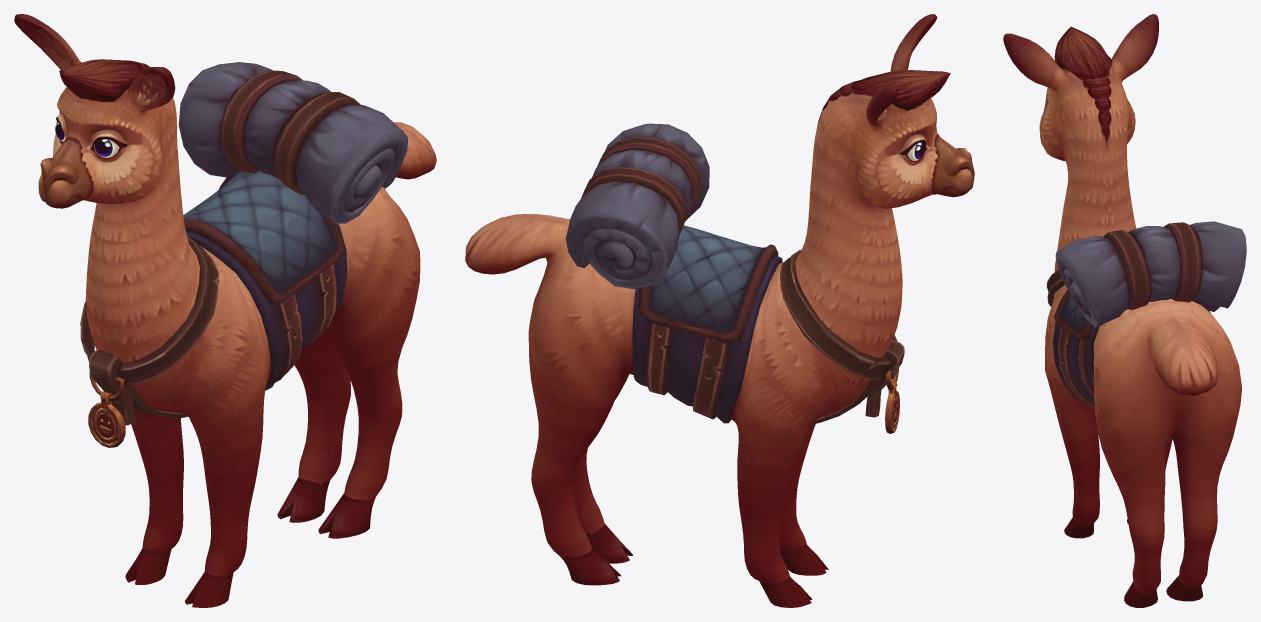
Rendered from llama.glb.
The picture shows the model from 3 angles, left to right: view 1: azimuth 30°, elevation 25°; view 2: azimuth 150°, elevation 25°; view 3: azimuth 270°, elevation 25°; orthographic projection. The views are drawn at different scales.
Parts seen in each view (by area): view 1: Mesh_0; view 2: Mesh_0; view 3: Mesh_0.
Boxes of the visible parts, bbox=[...] form: Mesh_0: bbox=[14, 14, 436, 607]; Mesh_0: bbox=[465, 14, 974, 607]; Mesh_0: bbox=[1003, 14, 1246, 607].
Bounding box in the file's own units: 1.95 × 2.35 × 1.12.
1 material, 1 textured.
